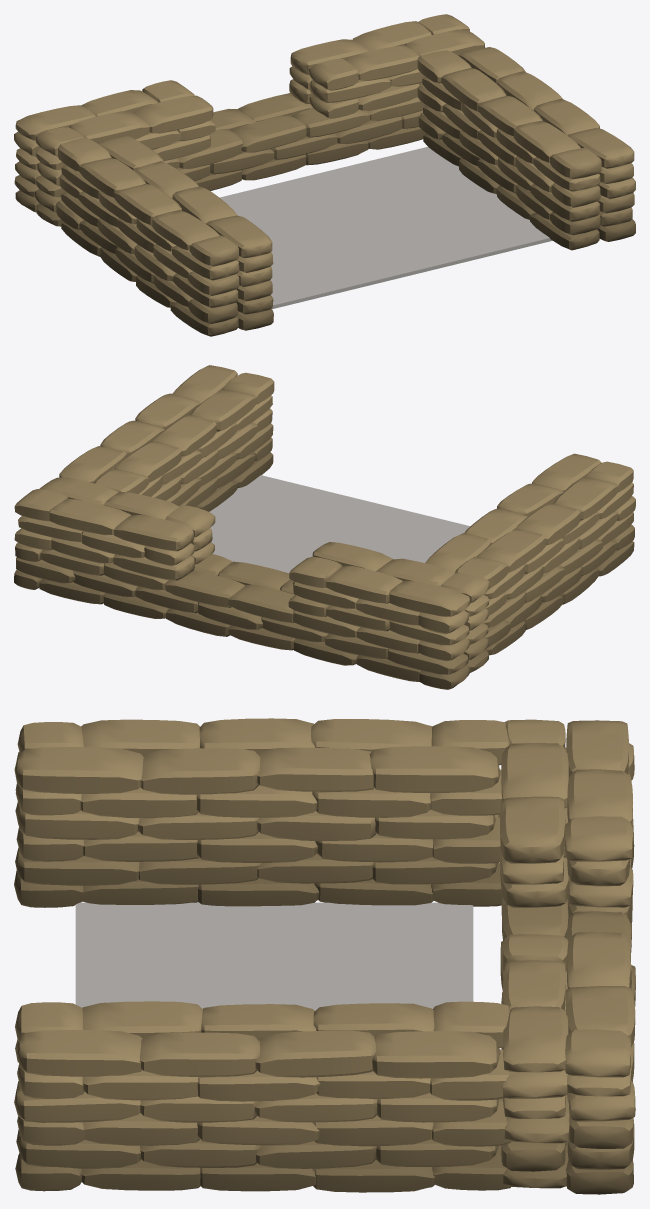
The model's file is sandbag_fighting_position.glb.
3 views of the same model, one above another, from view 1: azimuth 30°, elevation 25°; view 2: azimuth 150°, elevation 25°; view 3: azimuth 270°, elevation 25° (orthographic). The views are drawn at different scales.
Parts seen in each view (by area): view 1: sandbag_fighting_position_LOD0; view 2: sandbag_fighting_position_LOD0; view 3: sandbag_fighting_position_LOD0.
Part boxes in pixels (box(x1,y1,x2,y2)): sandbag_fighting_position_LOD0: box(14, 14, 635, 336); sandbag_fighting_position_LOD0: box(14, 365, 635, 689); sandbag_fighting_position_LOD0: box(14, 718, 635, 1194).
Size of what is drawn, in the model's own units: 3.92 by 0.7428 by 2.97.
